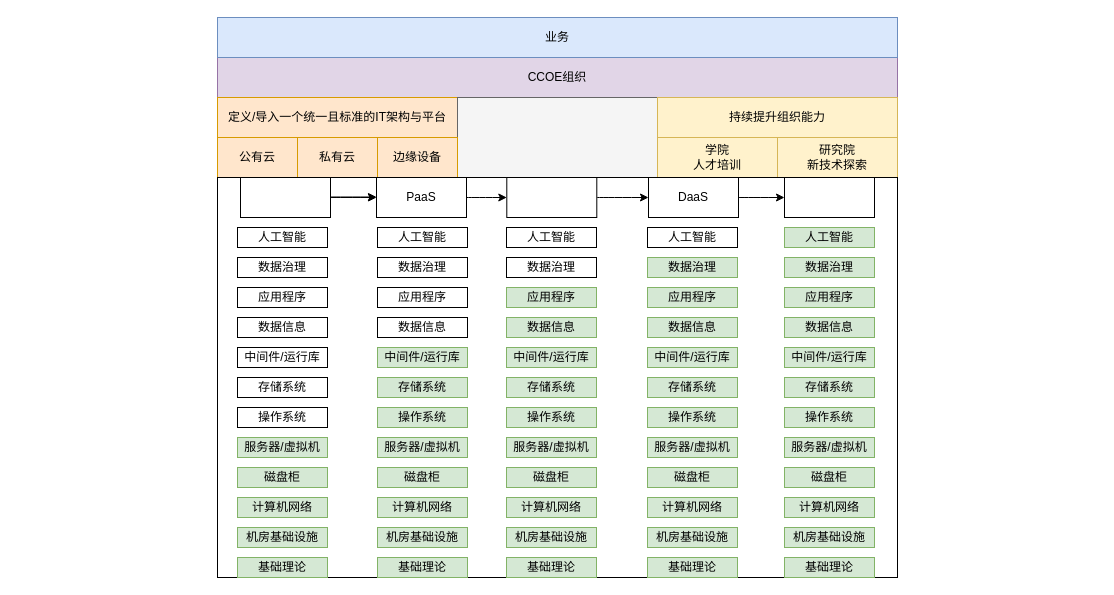
The diagram is 1114 pixels wide and 595 high, and some of its shapes have lost their labels. Here are the shapes that lost their labels. From the top down, the centre of each, then its label:
point (557, 137): 按照IT架构在平台中构建应用
point (285, 197): IaaS
point (551, 197): SaaS
point (829, 197): AIaaS
